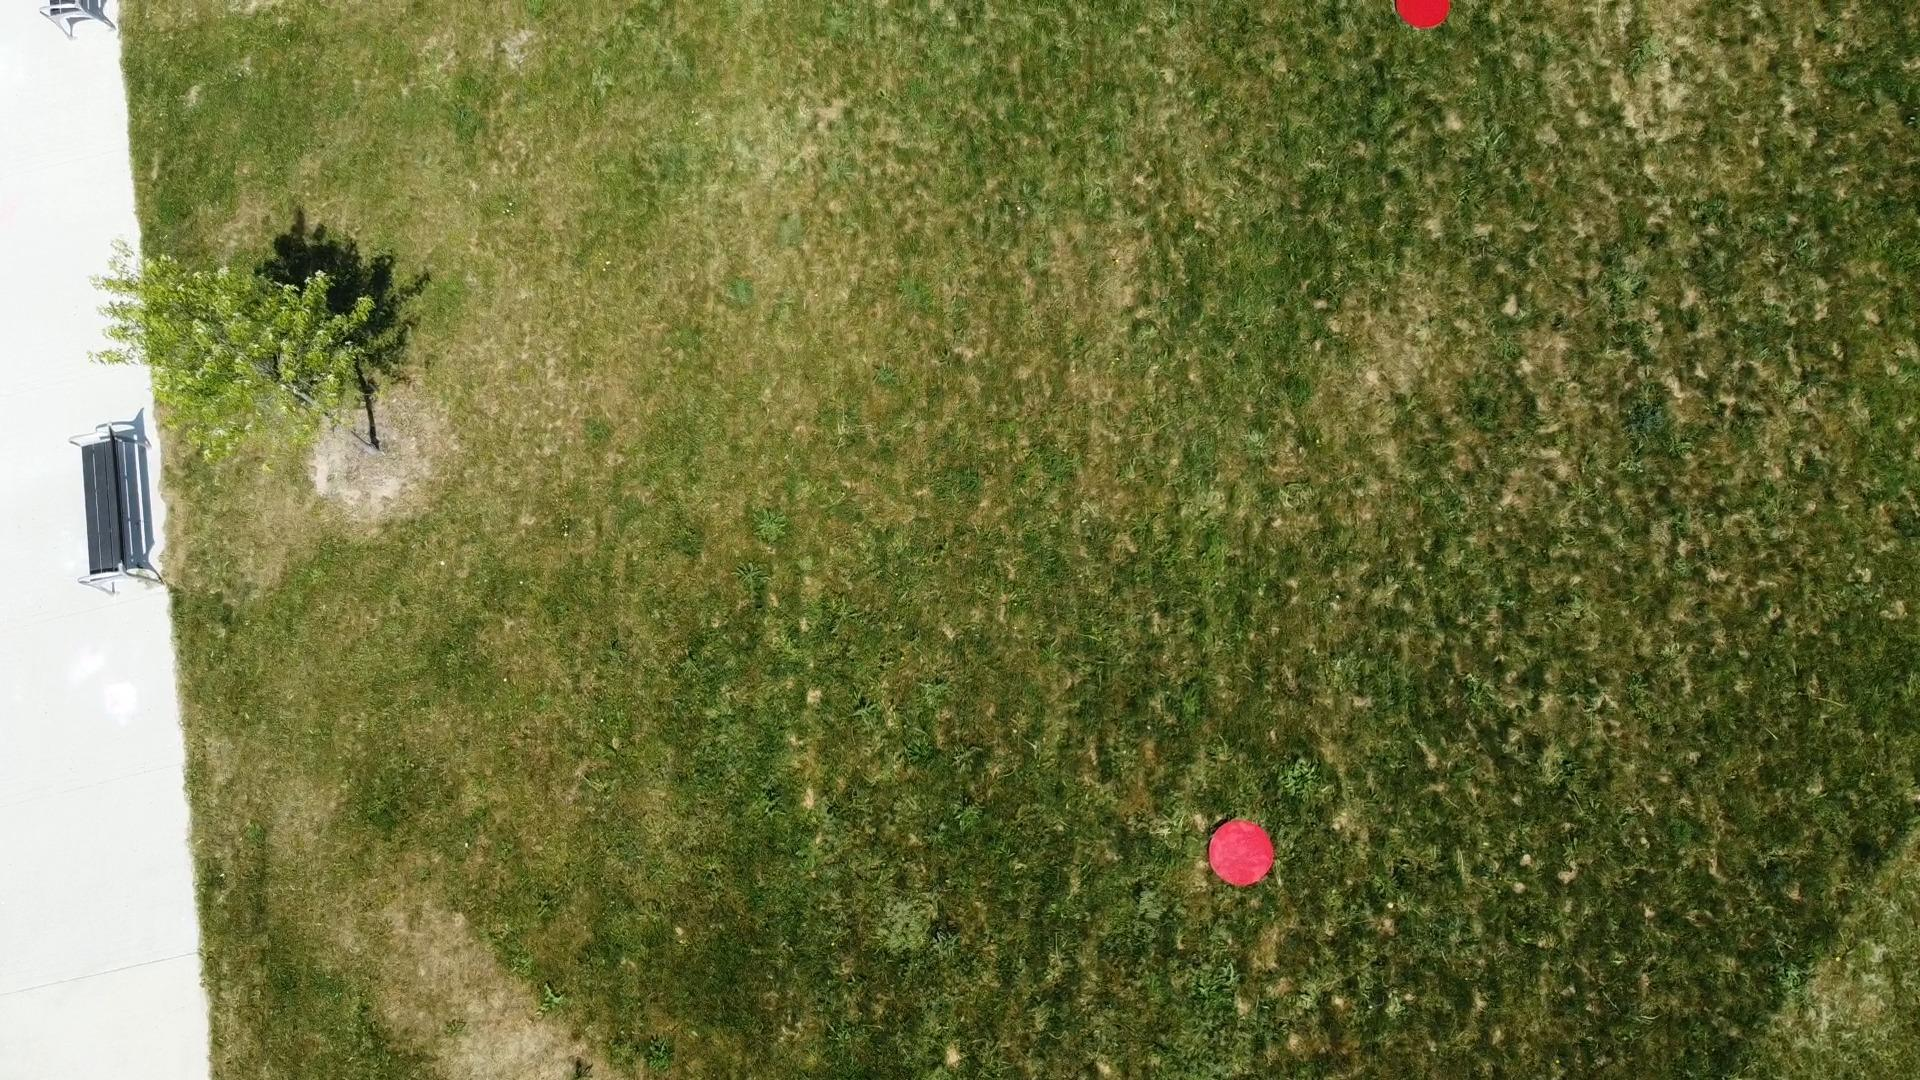Red: (1205, 816, 1278, 889), (1393, 0, 1455, 30)
